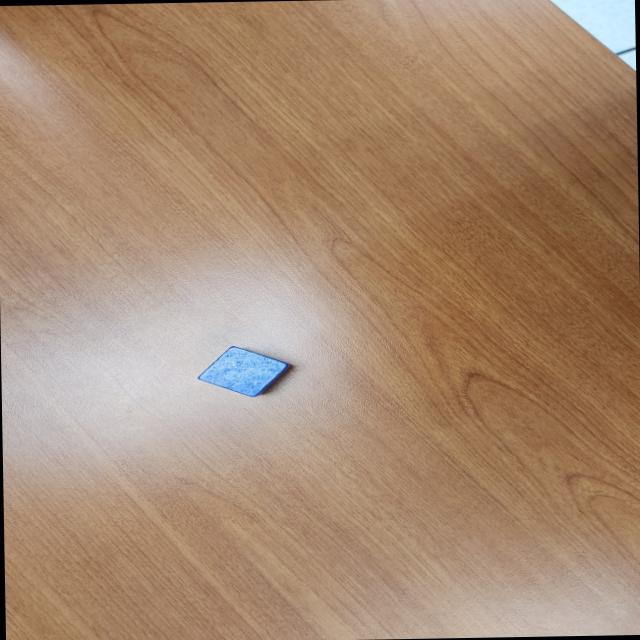blue: (195, 344, 292, 398)
